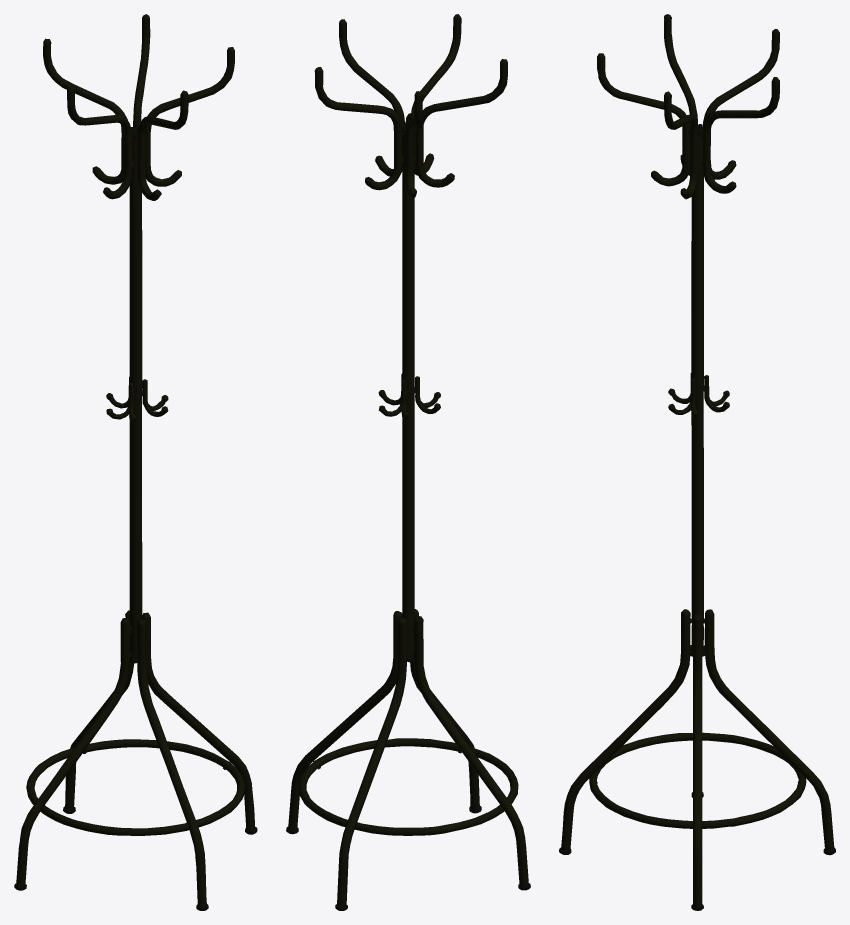
File: nipasen_wieszak_stojacy_50586150.glb
3 renders of one model, left to right at view 1: azimuth 30°, elevation 25°; view 2: azimuth 150°, elevation 25°; view 3: azimuth 270°, elevation 25°, orthographic.
Visible parts, largest first — view 1: nipasen_wieszak_stojacy_50586150; view 2: nipasen_wieszak_stojacy_50586150; view 3: nipasen_wieszak_stojacy_50586150.
Boxes of the visible parts, x1,y1,x2,y2 form: nipasen_wieszak_stojacy_50586150: (14,14,257,910); nipasen_wieszak_stojacy_50586150: (286,14,530,910); nipasen_wieszak_stojacy_50586150: (559,14,835,910).
Bounding box in the file's own units: 0.5693 × 1.81 × 0.5689.
Materials: 1 (1 with a texture image).
